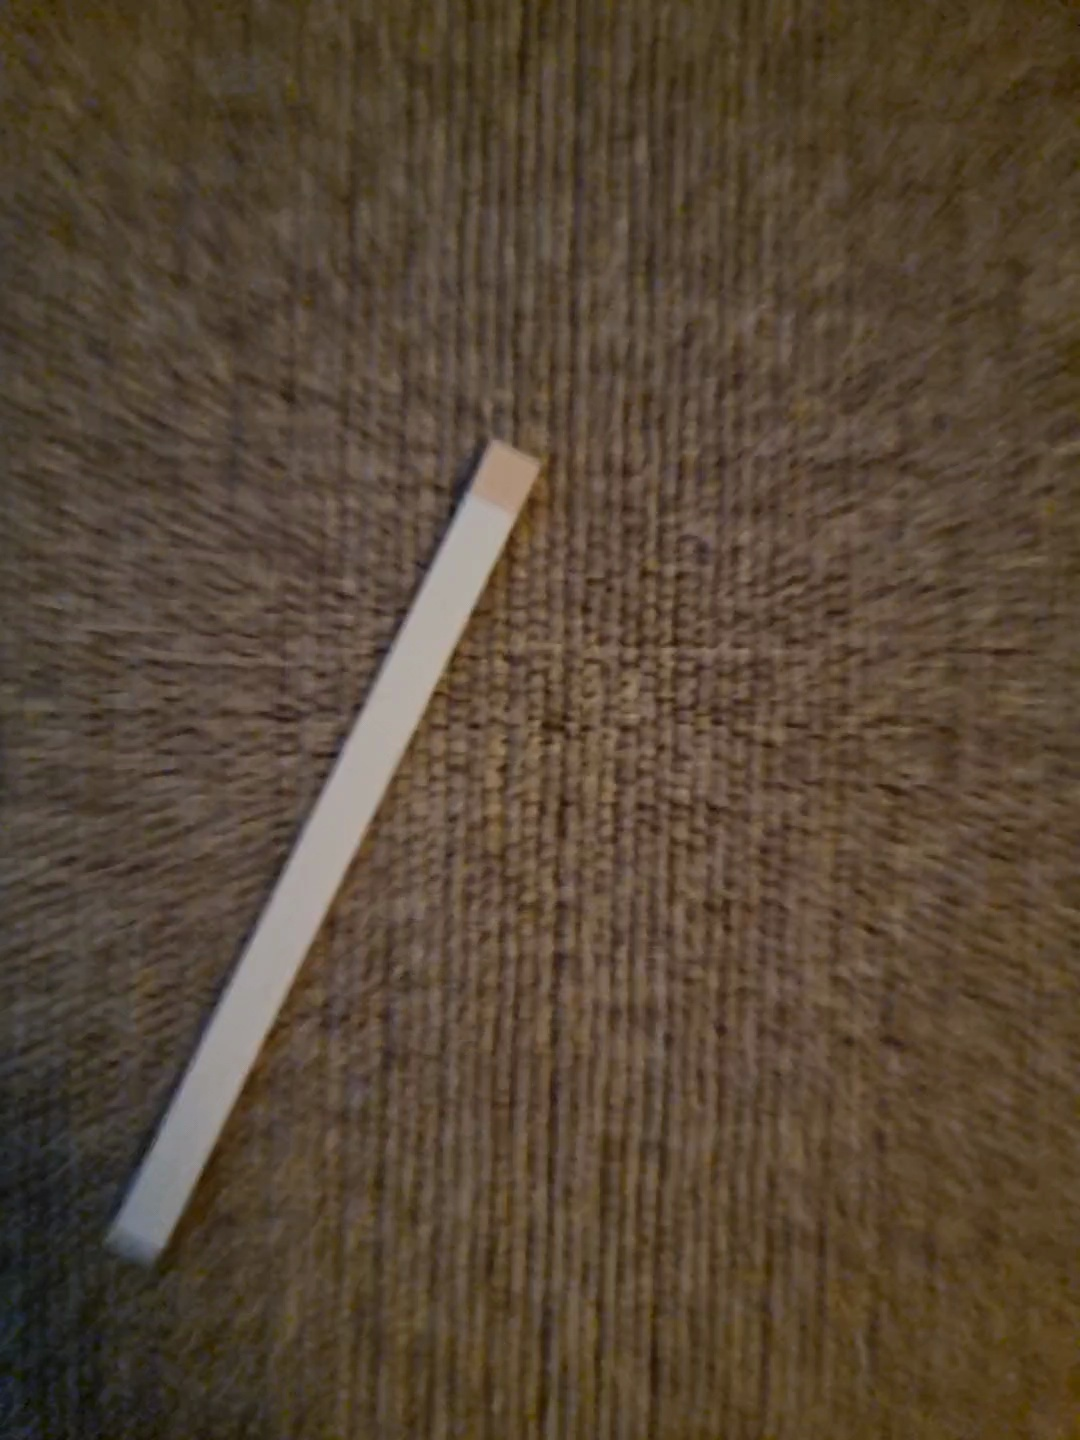keto-tip: (462, 434, 547, 522)
